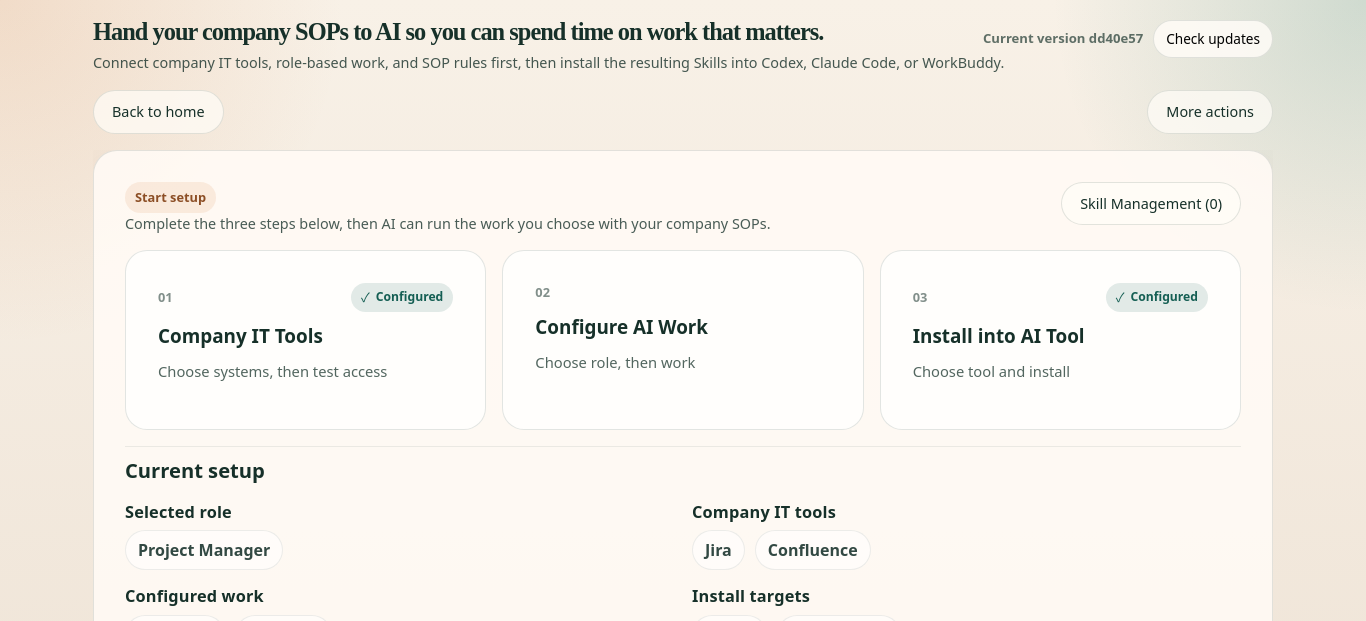
Test: onboarding shell smoke coverage › keeps generated onboarding defaults in English after loading the preferred locale
Click the button "Configure AI Work" at (683, 340), box [502,250,864,430]
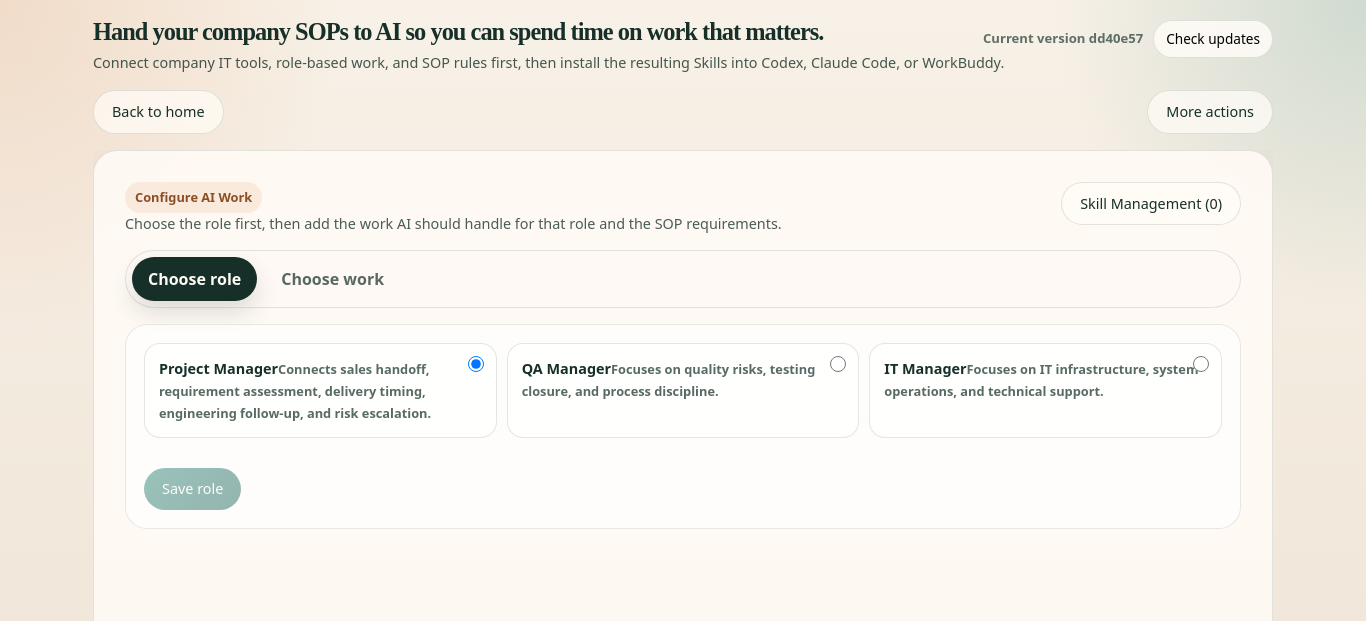
Click the tab "Choose work" at (333, 279), box [265,257,400,301]
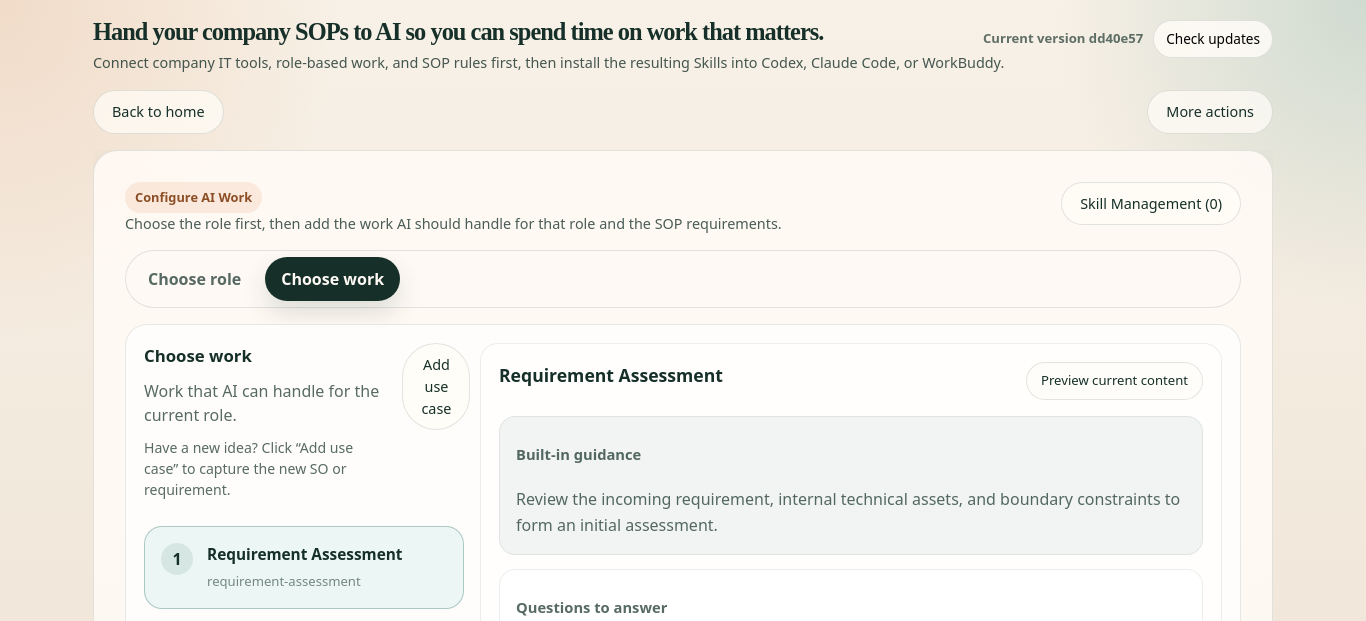
Expected: the button "Requirement Assessment" is shown, [144,526,464,609]
Expected: the text "Built-in guidance" is shown, [516,444,641,464]
Expected: the text "Questions to answer" is shown, [516,596,667,618]
